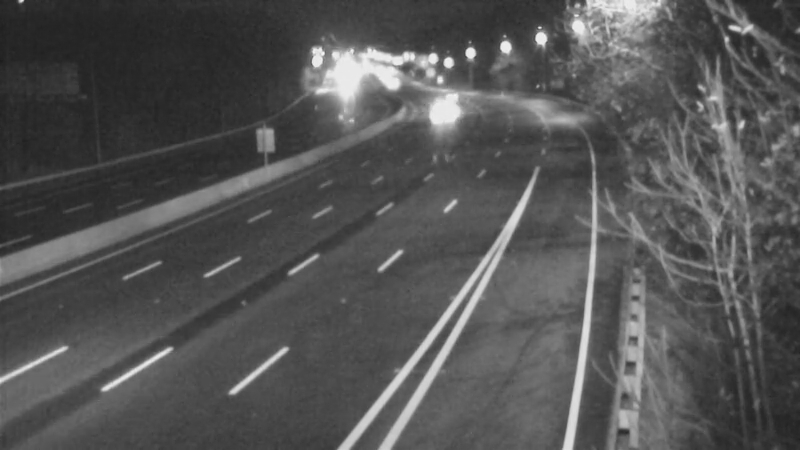vehicle: (364, 61, 414, 111), (424, 69, 474, 119), (422, 80, 472, 130), (420, 88, 470, 138)
